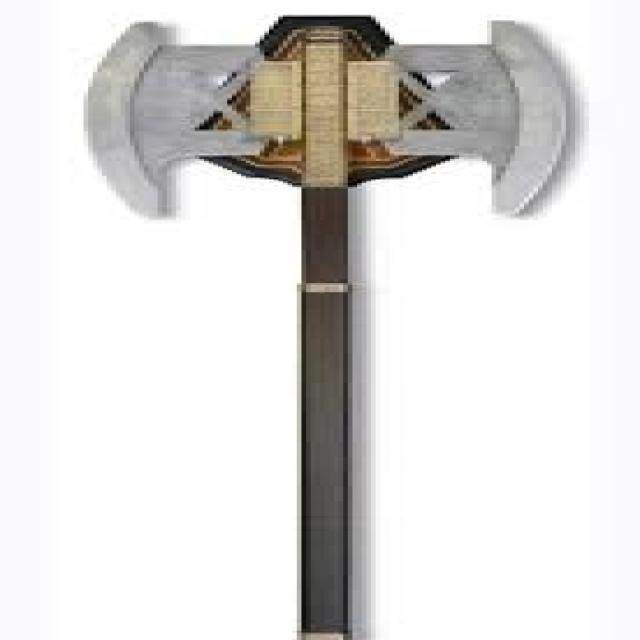Gun: (46, 0, 598, 640)
